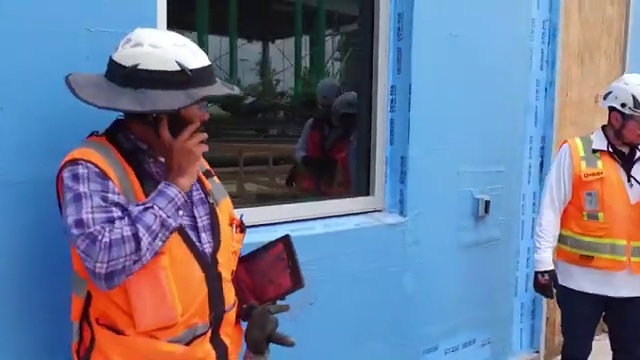helmet: (96, 19, 239, 109)
jacket: (44, 132, 260, 360), (541, 127, 640, 288)
